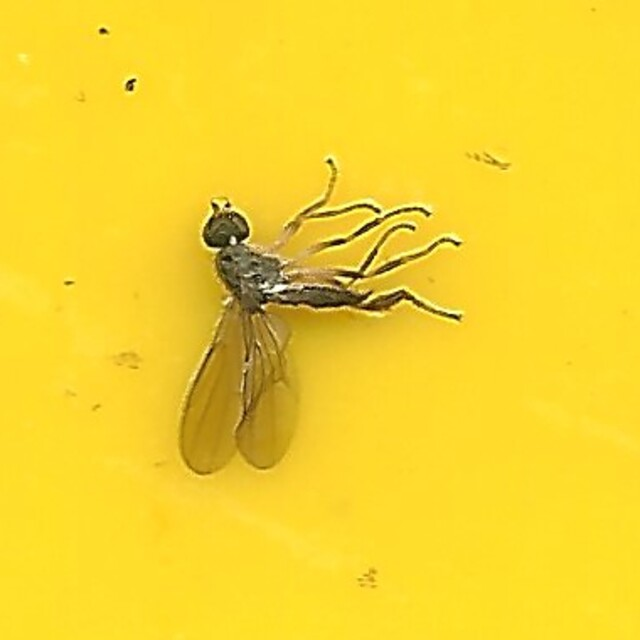Brachycera: (168, 172, 472, 468)
